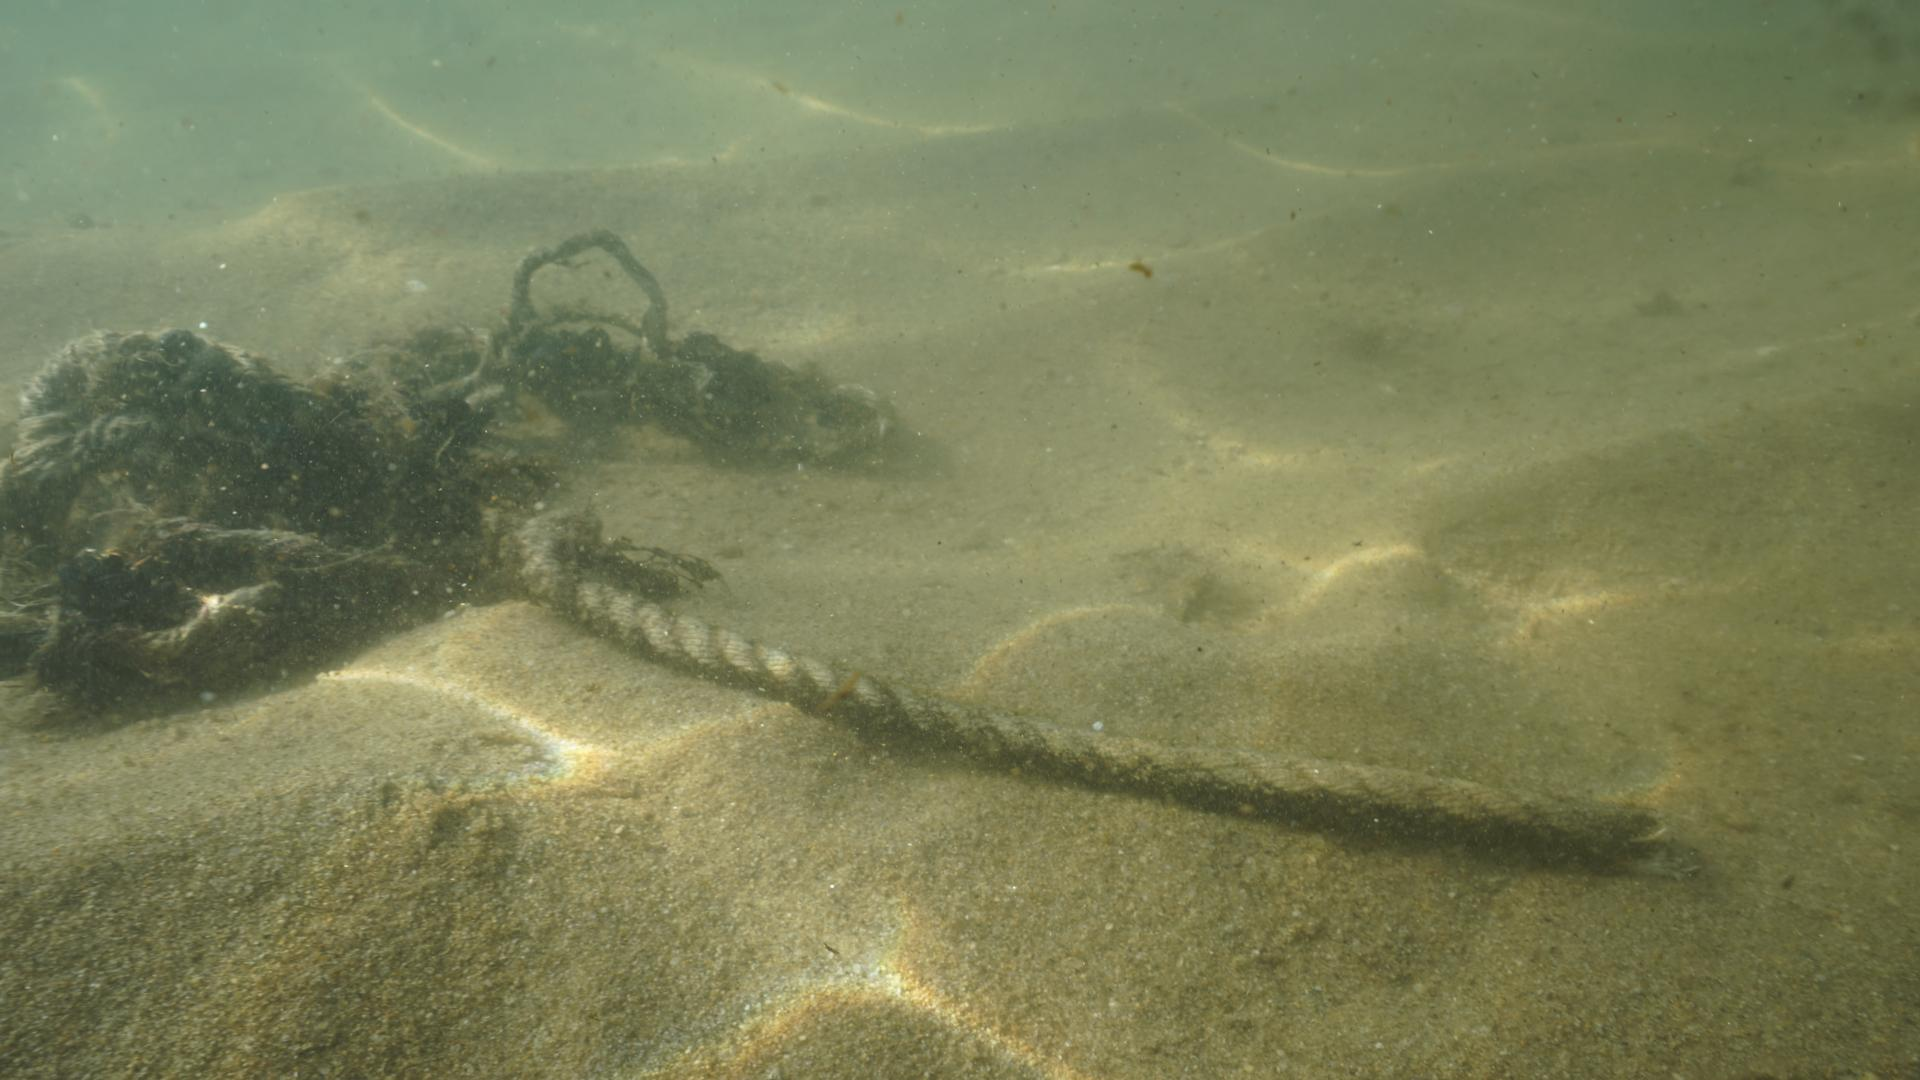rope: (508, 497, 1640, 873)
